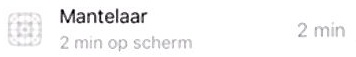name: (54, 5, 154, 29)
time: (55, 33, 105, 53)
